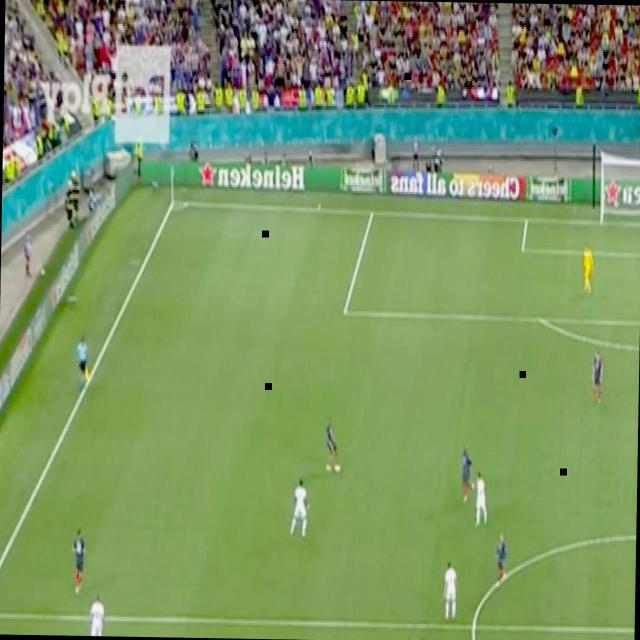ball: (39, 266, 47, 275)
player-white: (288, 478, 312, 542), (70, 527, 90, 596), (324, 416, 343, 477), (442, 558, 459, 620), (460, 442, 476, 505), (473, 470, 489, 530), (494, 530, 509, 592), (590, 350, 606, 406), (88, 590, 106, 636), (582, 238, 595, 298), (75, 332, 88, 388)
